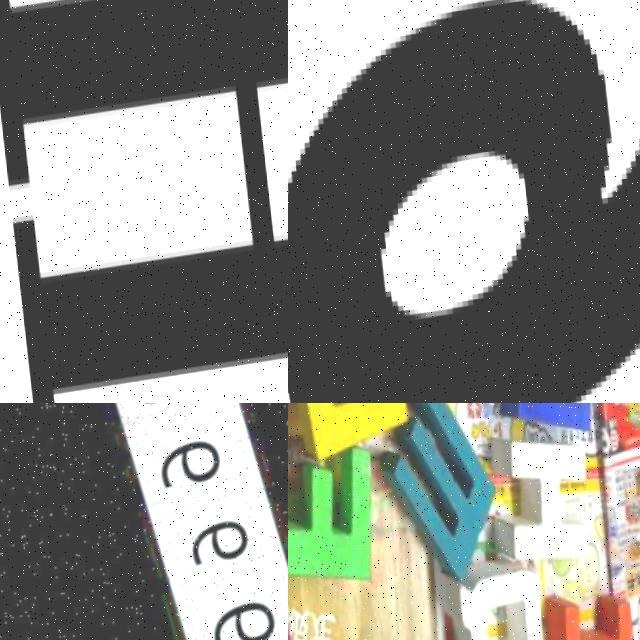6: (288, 0, 640, 403), (114, 403, 208, 430)
9: (139, 435, 241, 515), (171, 518, 265, 592), (189, 595, 288, 640)
B: (481, 403, 600, 450)
F: (288, 447, 375, 597)
H: (0, 0, 288, 403), (485, 436, 584, 584)
I: (536, 601, 632, 640)
L: (288, 403, 409, 465)
M: (375, 403, 499, 580)
Q: (428, 566, 541, 640)
